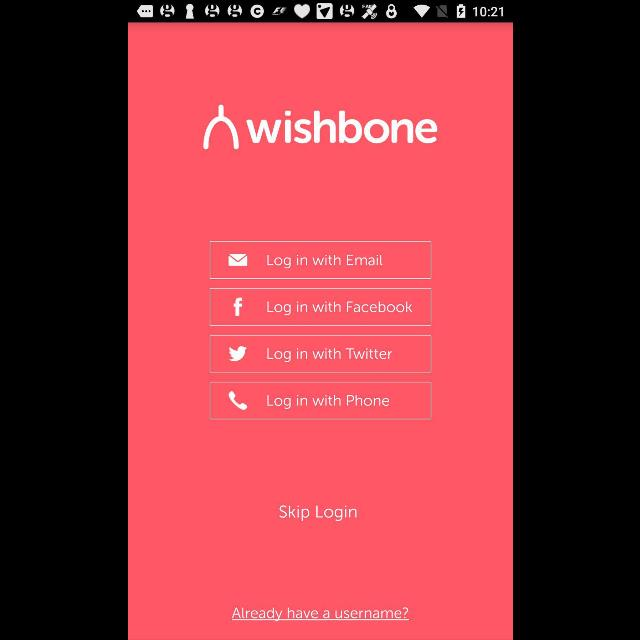image: (202, 104, 438, 150)
text: (231, 607, 409, 621), (278, 504, 356, 522)
textbutton: (209, 335, 431, 373), (209, 382, 431, 420), (210, 241, 430, 279), (210, 288, 430, 326)
uppertaskbar: (128, 1, 512, 23)
